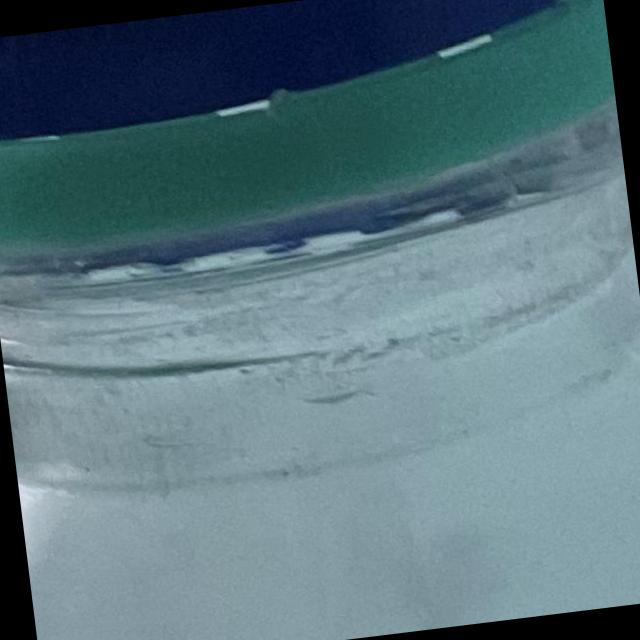Good-cap-Df0S: (0, 0, 619, 210)
